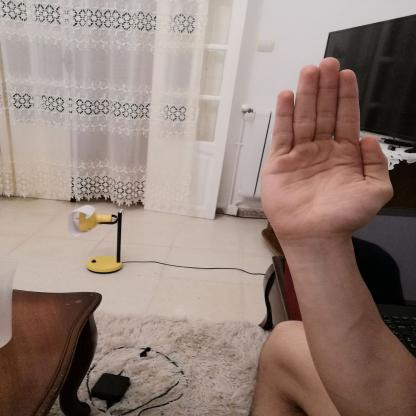SEEN: (249, 49, 404, 248)
